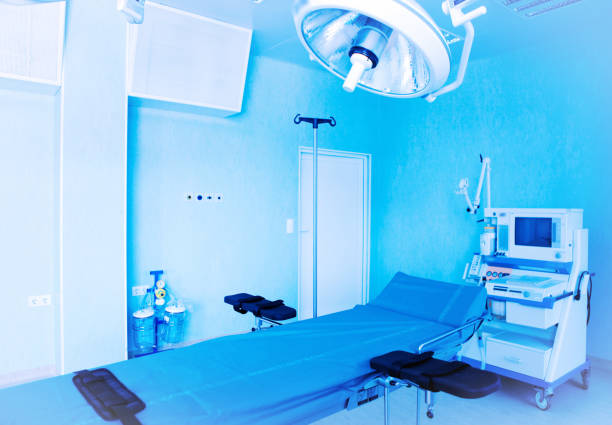bedrail: (410, 309, 486, 379)
bedside_monitor: (508, 216, 571, 264)
door_handle: (301, 226, 311, 234)
handle: (502, 357, 523, 368)
iv_pole: (294, 113, 337, 317)
operating_bed: (2, 270, 502, 425)
surgical_light: (295, 1, 451, 102)
ventilator: (468, 207, 592, 408)
